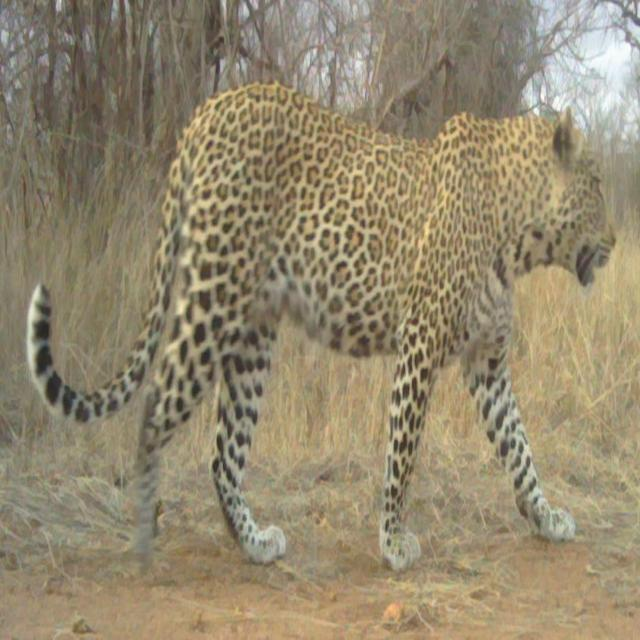Leopard: (25, 84, 622, 587)
